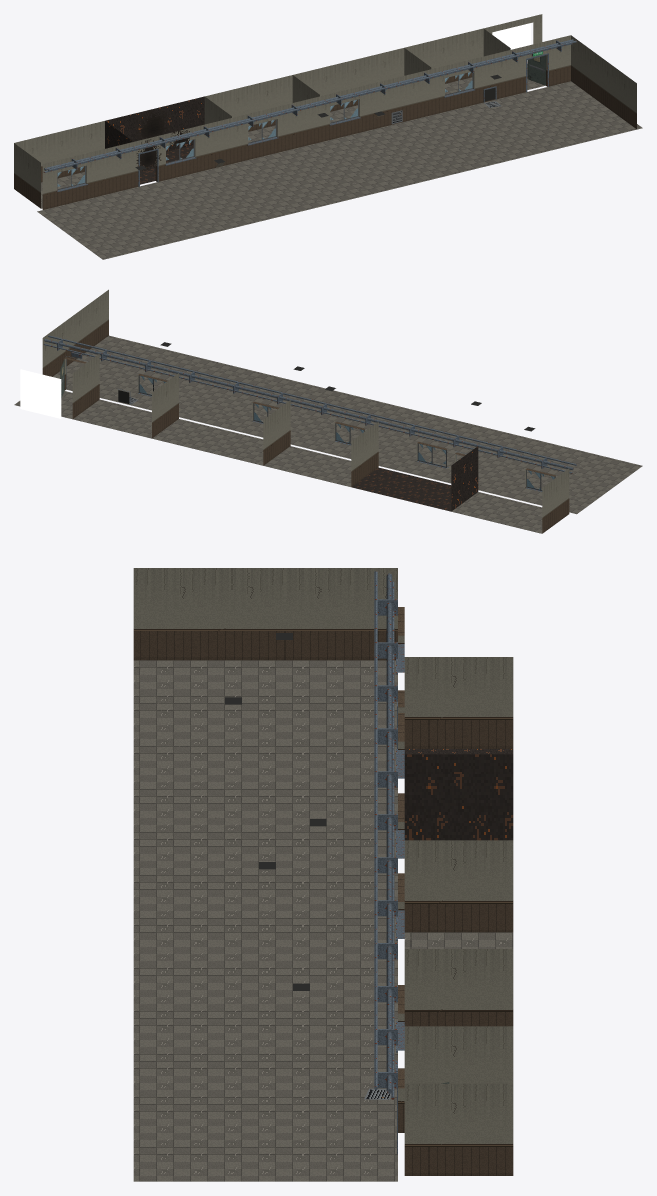
File: shell.gltf
3 views of the same model, one above another, from view 1: azimuth 30°, elevation 25°; view 2: azimuth 150°, elevation 25°; view 3: azimuth 270°, elevation 25° (orthographic). The views are drawn at different scales.
Visible parts, largest first — view 1: shell; view 2: shell; view 3: shell.
Part boxes in pixels (x1,y1,x2,y2): shell: [14, 14, 642, 259]; shell: [14, 289, 642, 533]; shell: [133, 568, 513, 1181].
Size of the model in its own units: 36.8 by 3 by 11.5.
12 materials, 10 textured.
